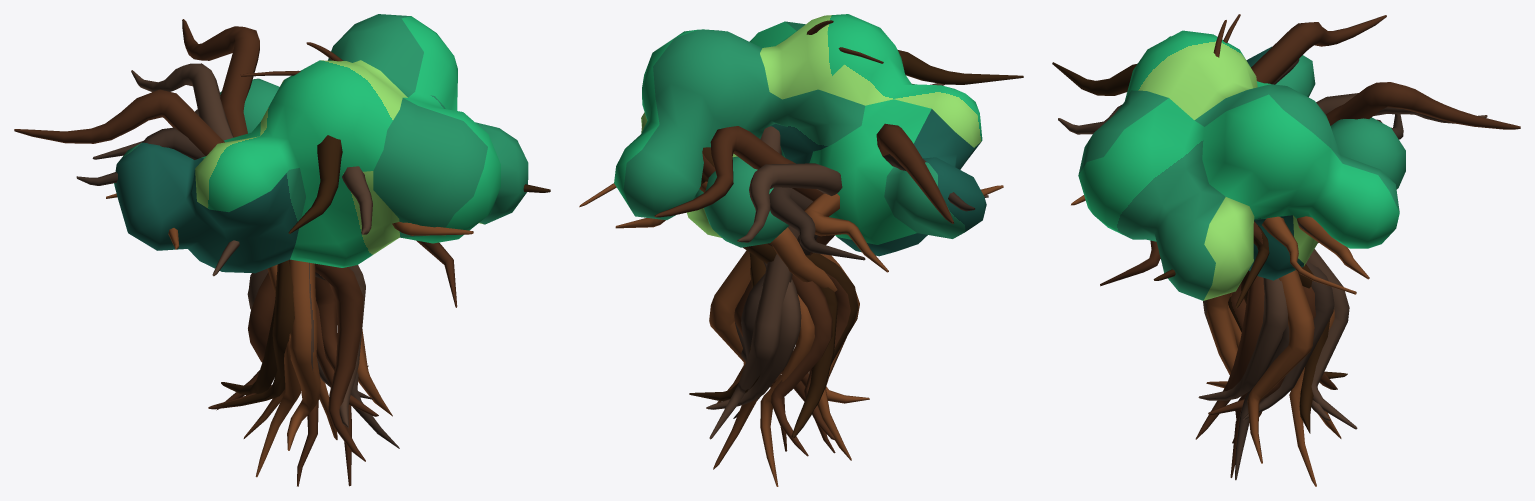
Rendered from Tree-Center.gltf.
The picture shows the model from 3 angles, left to right: view 1: azimuth 30°, elevation 25°; view 2: azimuth 150°, elevation 25°; view 3: azimuth 270°, elevation 25°; orthographic projection. The views are drawn at different scales.
Parts seen in each view (by area): view 1: Tree-Center; view 2: Tree-Center; view 3: Tree-Center.
Boxes of the visible parts, left/top/right/bottom form: Tree-Center: left=14, top=14, right=550, bottom=486; Tree-Center: left=579, top=14, right=1023, bottom=486; Tree-Center: left=1052, top=14, right=1520, bottom=486.
Bounding box in the file's own units: 16.93 × 17.76 × 17.25.
Materials: 1 (1 with a texture image).
